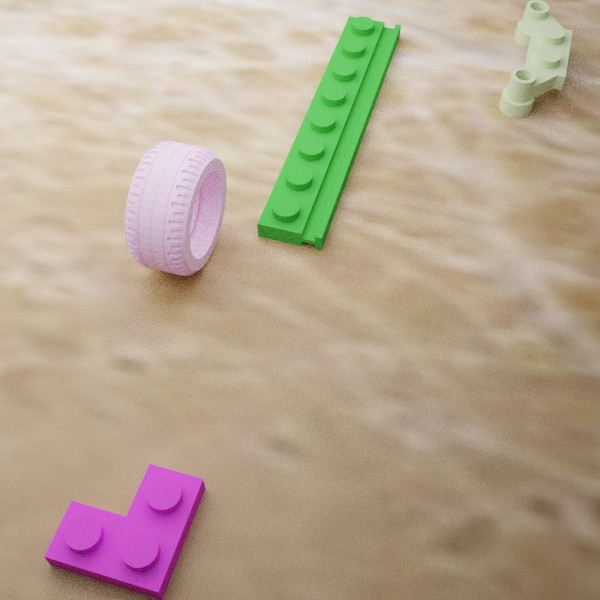lego: (257, 16, 401, 250), (43, 463, 205, 600), (124, 141, 226, 275), (499, 0, 572, 118)
